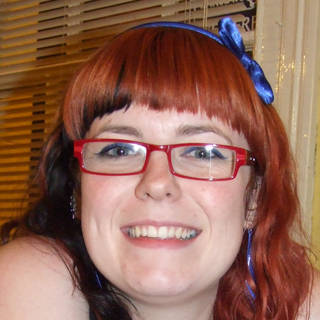eye: (94, 140, 143, 163), (179, 142, 223, 165)
